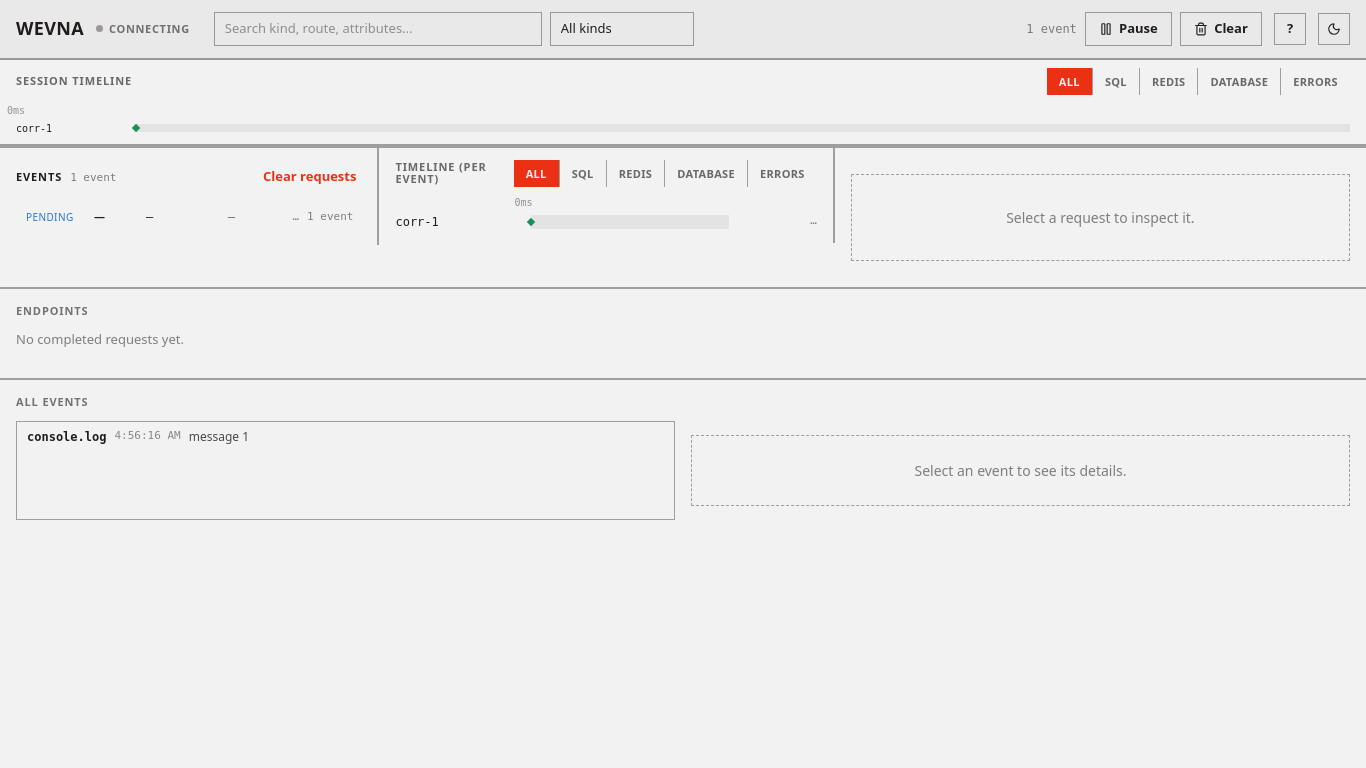
Test case: App › Clear requests empties the request list without touching the event list
The image size is (1366, 768).
Click the button "Clear requests" at [310, 176], box [258,160,361,193]
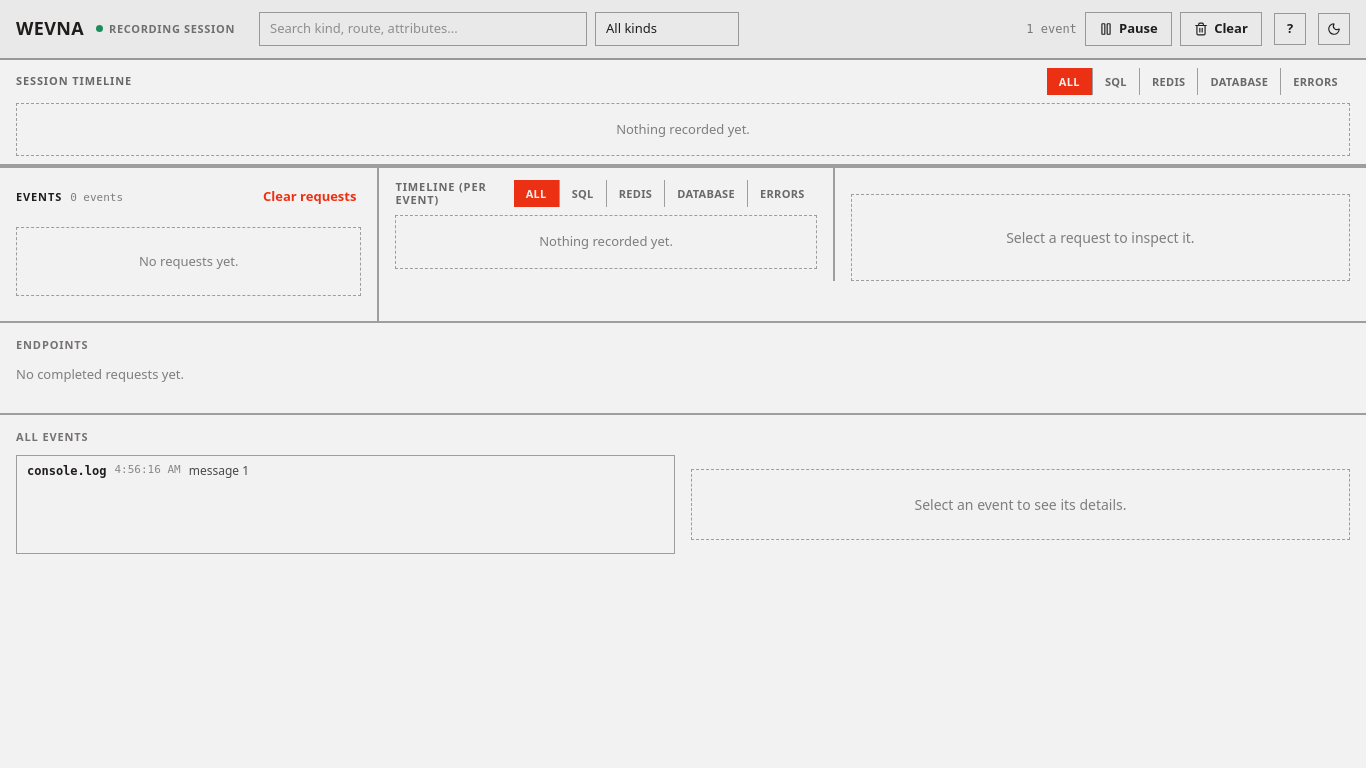
Expected: the text "message 1" is shown, [189,462,249,480]
Expected: the text "No requests yet." is shown, [16,227,361,296]
